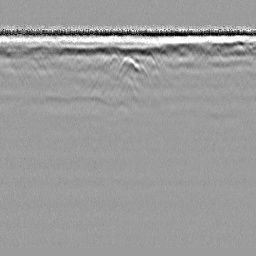cavity: (117, 54, 140, 75)
